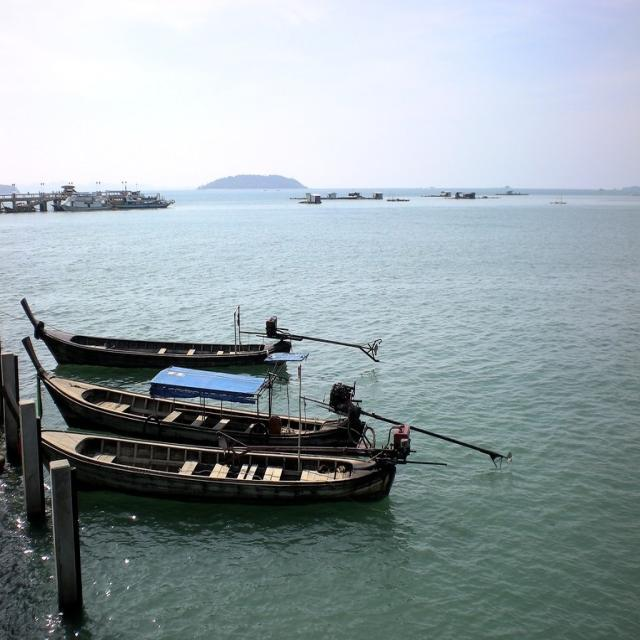boat: (14, 338, 400, 438), (26, 425, 413, 508), (16, 293, 304, 369), (115, 192, 170, 212), (56, 193, 111, 212), (5, 203, 38, 214), (300, 191, 324, 205)
